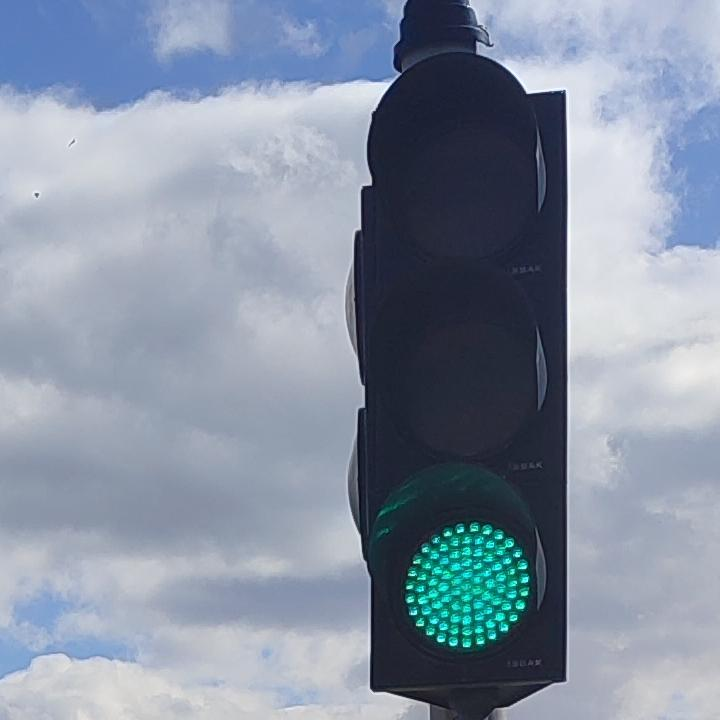green: (342, 14, 568, 719)
